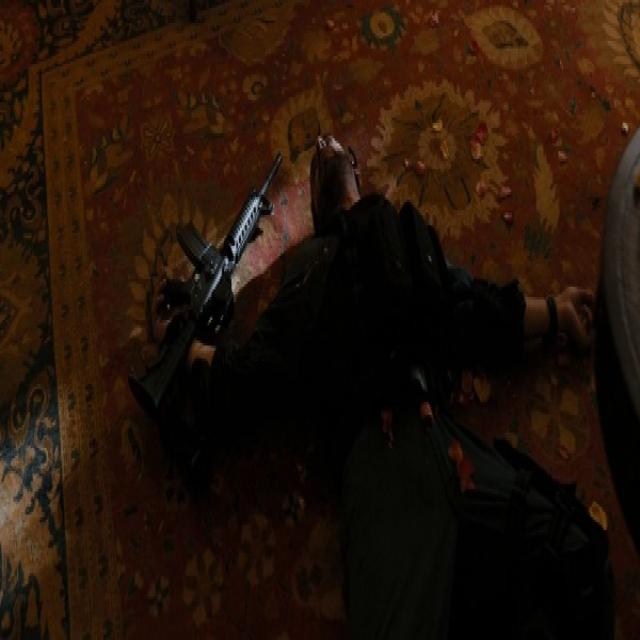rifle: (132, 145, 285, 426)
